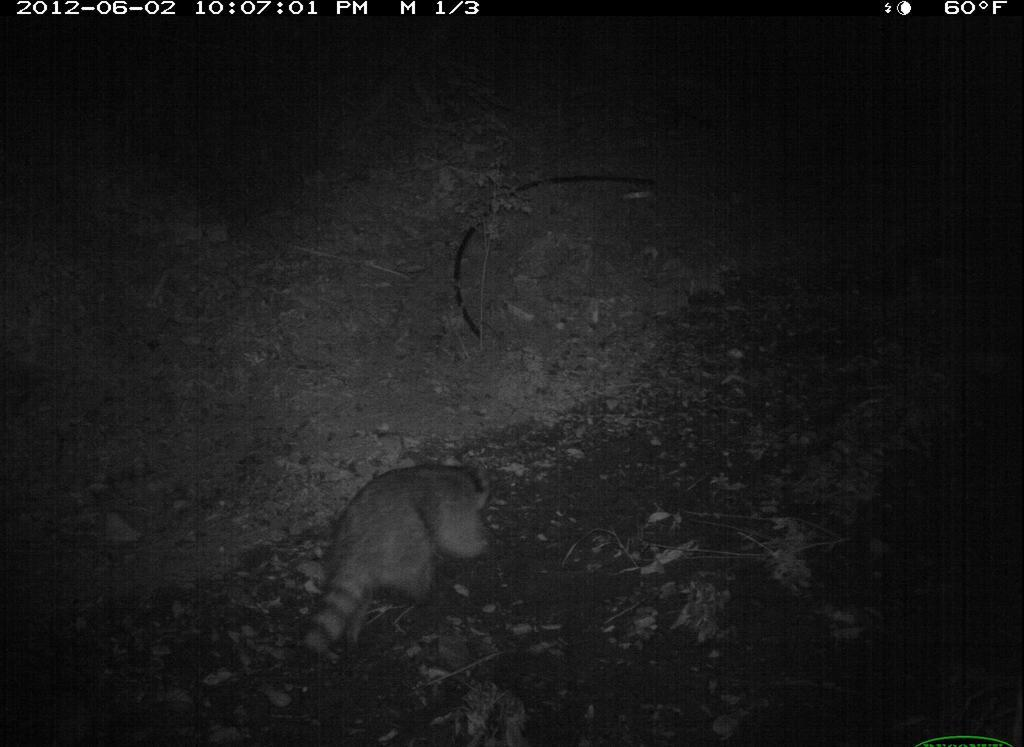raccoon: (292, 457, 504, 671)
